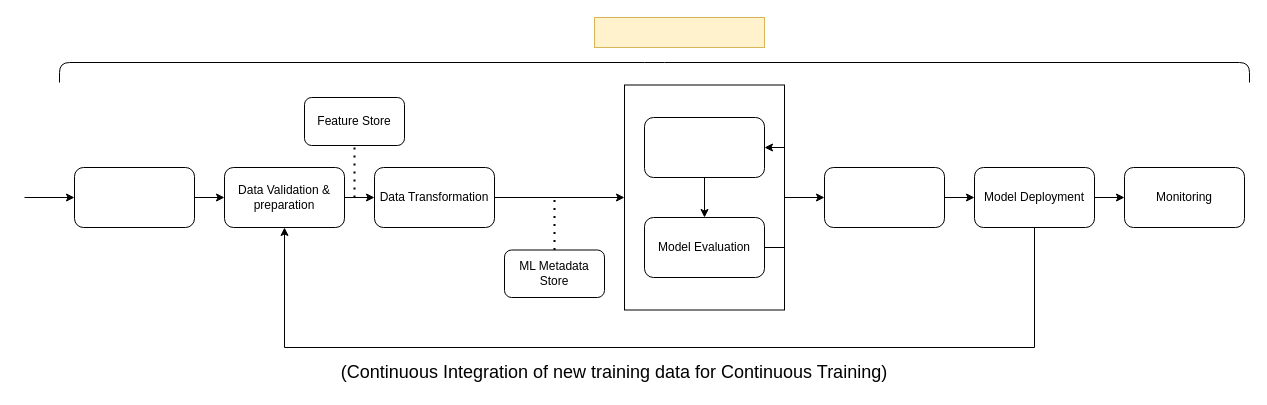
Image size: 1267x405. Some labels were removed from this diagram. The shapes that lost their labels are listed below. From the top down, each one's centre as x and y in pixels, then its label:
At point (679, 32): "MLOps".
At point (704, 147): "Model Training".
At point (134, 197): "Data Ingestion".
At point (884, 197): "Model Versioning/Model Registry".
